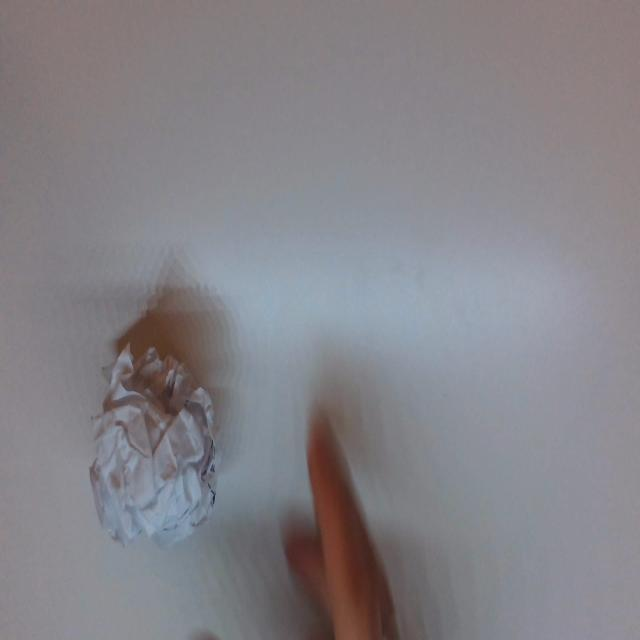Paper: (88, 347, 222, 546)
